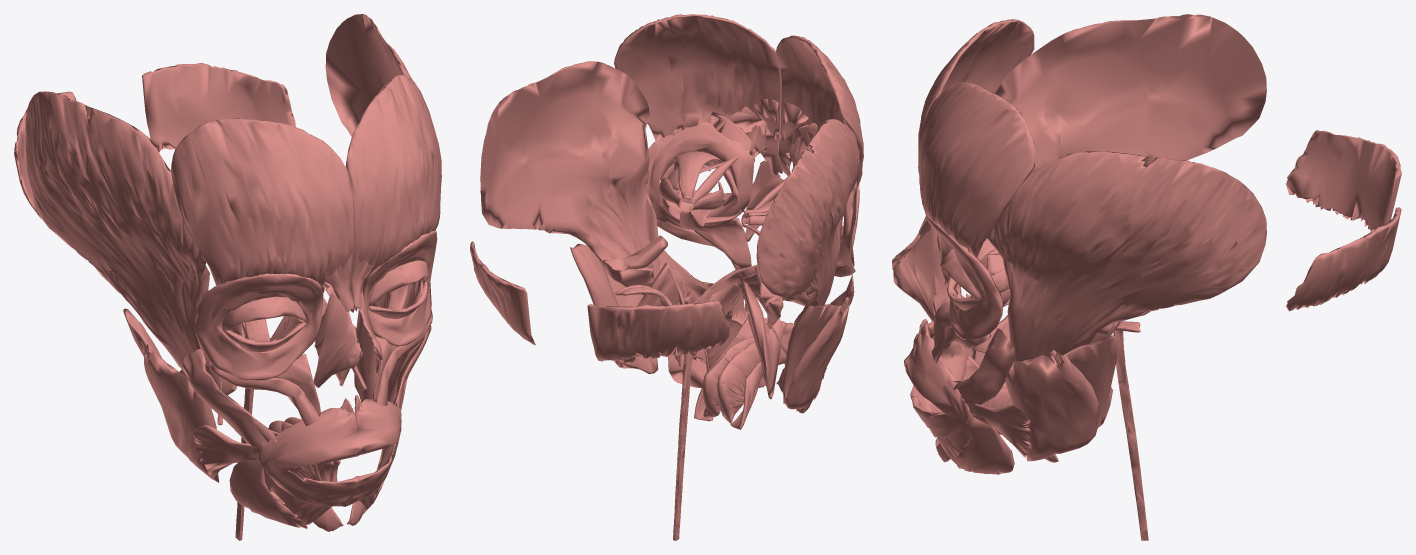
File: muscles-tete.lo.glb
3 renders of one model, left to right at view 1: azimuth 30°, elevation 25°; view 2: azimuth 150°, elevation 25°; view 3: azimuth 270°, elevation 25°, orthographic. The views are drawn at different scales.
Visible parts, largest first — view 1: ZA-temporal-muscle-d, ZA-occipito-frontal-frontal-d, ZA-occipito-frontal-frontal-g, ZA-occipito-frontal-occipital-g, ZA-orbiculaire-oeil-orbitaire-d, ZA-orbiculaire-bouche-d, ZA-temporal-muscle-g, ZA-masseter-superficiel-d, ZA-orbiculaire-oeil-orbitaire-g, ZA-orbiculaire-bouche-g, ZA-grand-zygomatique-d, ZA-nasal-muscle-d (+18 smaller); view 2: ZA-temporal-muscle-g, ZA-occipito-frontal-frontal-g, ZA-temporal-muscle-d, ZA-occipito-frontal-occipital-d, ZA-occipito-frontal-frontal-d, ZA-orbiculaire-oeil-orbitaire-g, ZA-masseter-superficiel-d, ZA-occipito-frontal-occipital-g, ZA-pterygoidien-medial-d, ZA-masseter-profond-g, ZA-masseter-profond-d, FJ2750 (+26 smaller); view 3: ZA-temporal-muscle-g, ZA-temporal-muscle-d, ZA-occipito-frontal-frontal-g, ZA-occipito-frontal-occipital-d, ZA-masseter-superficiel-g, ZA-occipito-frontal-frontal-d, ZA-occipito-frontal-occipital-g, ZA-orbiculaire-bouche-g, ZA-orbiculaire-oeil-orbitaire-g, ZA-nasal-muscle-g, ZA-grand-zygomatique-g, ZA-abaisseur-angle-bouche-g (+7 smaller).
Boxes of the visible parts, box(x1,y1,x2,y2) form: ZA-temporal-muscle-d: box(25, 91, 220, 388); ZA-occipito-frontal-frontal-d: box(171, 118, 353, 288); ZA-occipito-frontal-frontal-g: box(345, 75, 441, 277); ZA-occipito-frontal-occipital-g: box(142, 62, 295, 152); ZA-orbiculaire-oeil-orbitaire-d: box(195, 273, 323, 380); ZA-orbiculaire-bouche-d: box(258, 408, 362, 506); ZA-temporal-muscle-g: box(325, 14, 412, 309); ZA-masseter-superficiel-d: box(144, 344, 219, 482); ZA-orbiculaire-oeil-orbitaire-g: box(362, 231, 437, 346); ZA-orbiculaire-bouche-g: box(346, 399, 401, 505); ZA-grand-zygomatique-d: box(182, 349, 279, 453); ZA-nasal-muscle-d: box(313, 292, 362, 387); ZA-temporal-muscle-g: box(480, 61, 659, 285); ZA-occipito-frontal-frontal-g: box(614, 14, 781, 157); ZA-temporal-muscle-d: box(756, 118, 859, 325); ZA-occipito-frontal-occipital-d: box(587, 301, 729, 361); ZA-occipito-frontal-frontal-d: box(775, 35, 863, 188); ZA-orbiculaire-oeil-orbitaire-g: box(645, 122, 753, 229); ZA-masseter-superficiel-d: box(784, 297, 850, 409); ZA-occipito-frontal-occipital-g: box(470, 241, 535, 345); ZA-pterygoidien-medial-d: box(741, 282, 783, 399); ZA-masseter-profond-g: box(570, 243, 657, 373); ZA-masseter-profond-d: box(782, 304, 838, 409); FJ2750: box(717, 337, 768, 423); ZA-temporal-muscle-g: box(987, 151, 1266, 361); ZA-temporal-muscle-d: box(995, 14, 1266, 171); ZA-occipito-frontal-frontal-g: box(919, 82, 1035, 257); ZA-occipito-frontal-occipital-d: box(1286, 130, 1401, 231); ZA-masseter-superficiel-g: box(1005, 350, 1098, 461); ZA-occipito-frontal-frontal-d: box(918, 19, 1034, 174); ZA-occipito-frontal-occipital-g: box(1286, 207, 1401, 311); ZA-orbiculaire-bouche-g: box(905, 333, 970, 438); ZA-orbiculaire-oeil-orbitaire-g: box(926, 216, 1003, 339); ZA-nasal-muscle-g: box(893, 227, 945, 322); ZA-grand-zygomatique-g: box(953, 328, 1015, 411); ZA-abaisseur-angle-bouche-g: box(956, 412, 1014, 474).
Size of the model in its own units: 0.1572 by 0.2187 by 0.2098.
